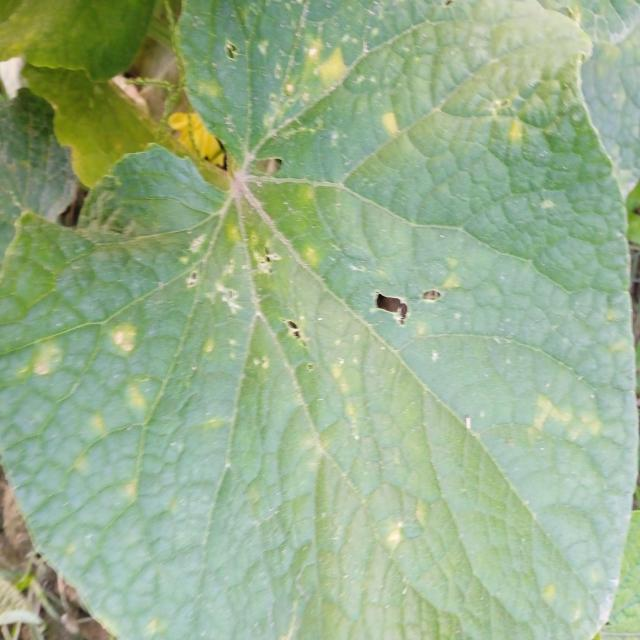cucumber_downy: (26, 191, 625, 614), (204, 0, 573, 282)
